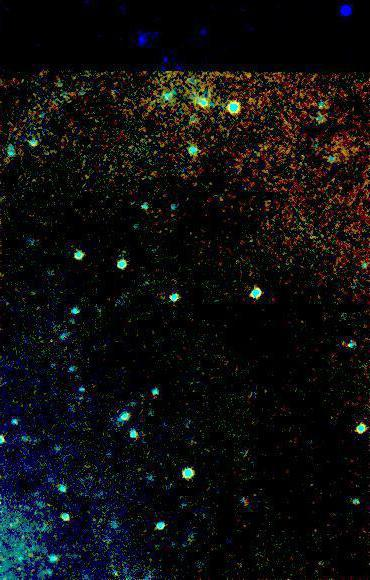star: (6, 551, 36, 580)
